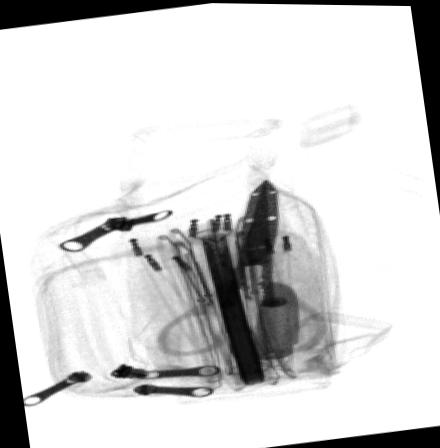Knife: (253, 282, 301, 358)
Scissors: (157, 176, 328, 358)
